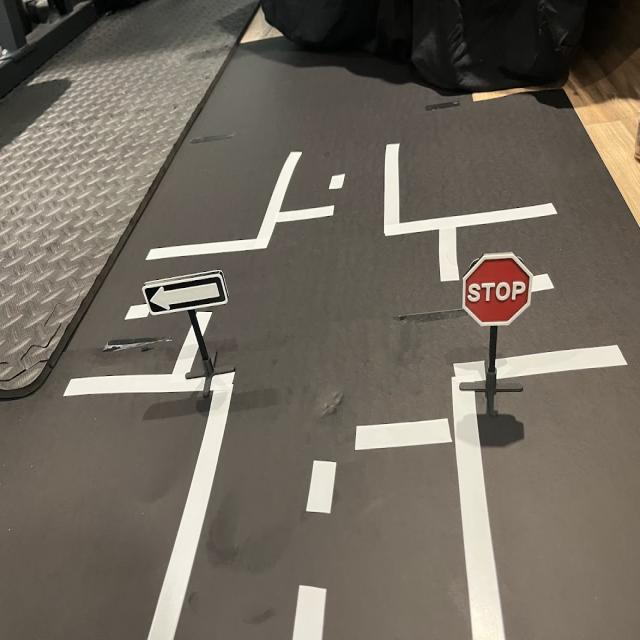sign_oneway_left: (141, 272, 232, 317)
sign_stop: (463, 256, 533, 327)
